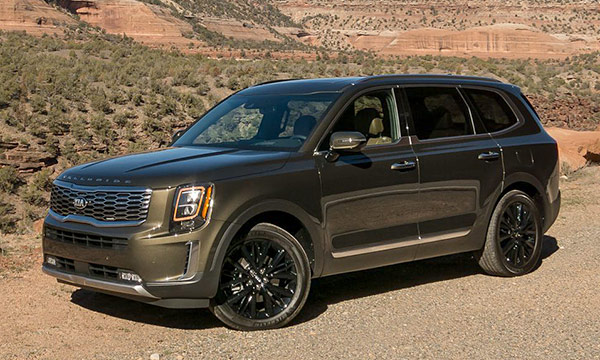car: (46, 71, 562, 298)
